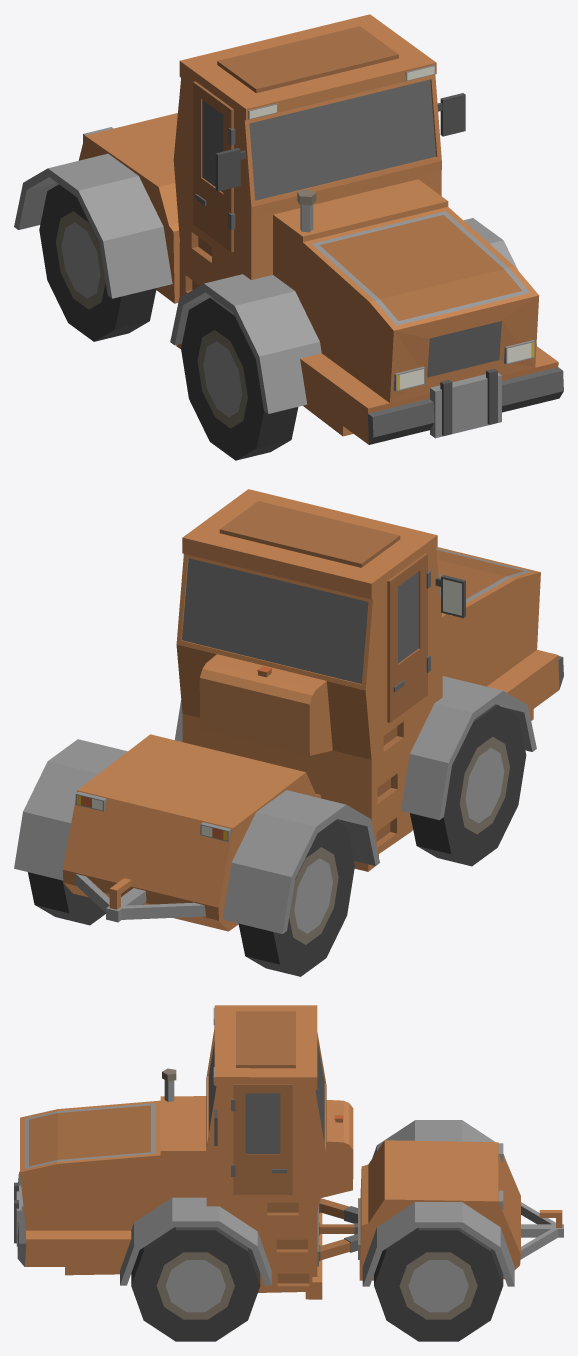
Rendered from kar2_1.fbx.
3 renders of one model, top to bottom at view 1: azimuth 30°, elevation 25°; view 2: azimuth 150°, elevation 25°; view 3: azimuth 270°, elevation 25°, orthographic. The views are drawn at different scales.
Visible parts, largest first — view 1: Cube, Cylinder, Cylinder_1; view 2: Cube, Cylinder, Cylinder_1, Cylinder_5; view 3: Cube, Cylinder_2, Cylinder_5.
Part boxes in pixels (x1=…): Cube: x1=14, y1=14, x2=563, y2=444; Cylinder: x1=181, y1=297, x2=298, y2=460; Cylinder_1: x1=39, y1=184, x2=156, y2=341; Cube: x1=14, y1=489, x2=563, y2=933; Cylinder: x1=410, y1=704, x2=526, y2=866; Cylinder_1: x1=238, y1=820, x2=354, y2=976; Cylinder_5: x1=28, y1=872, x2=105, y2=925; Cube: x1=14, y1=1005, x2=563, y2=1299; Cylinder_2: x1=131, y1=1227, x2=260, y2=1341; Cylinder_5: x1=374, y1=1228, x2=503, y2=1341.
Bounding box in the file's own units: 242 × 280 × 550.
